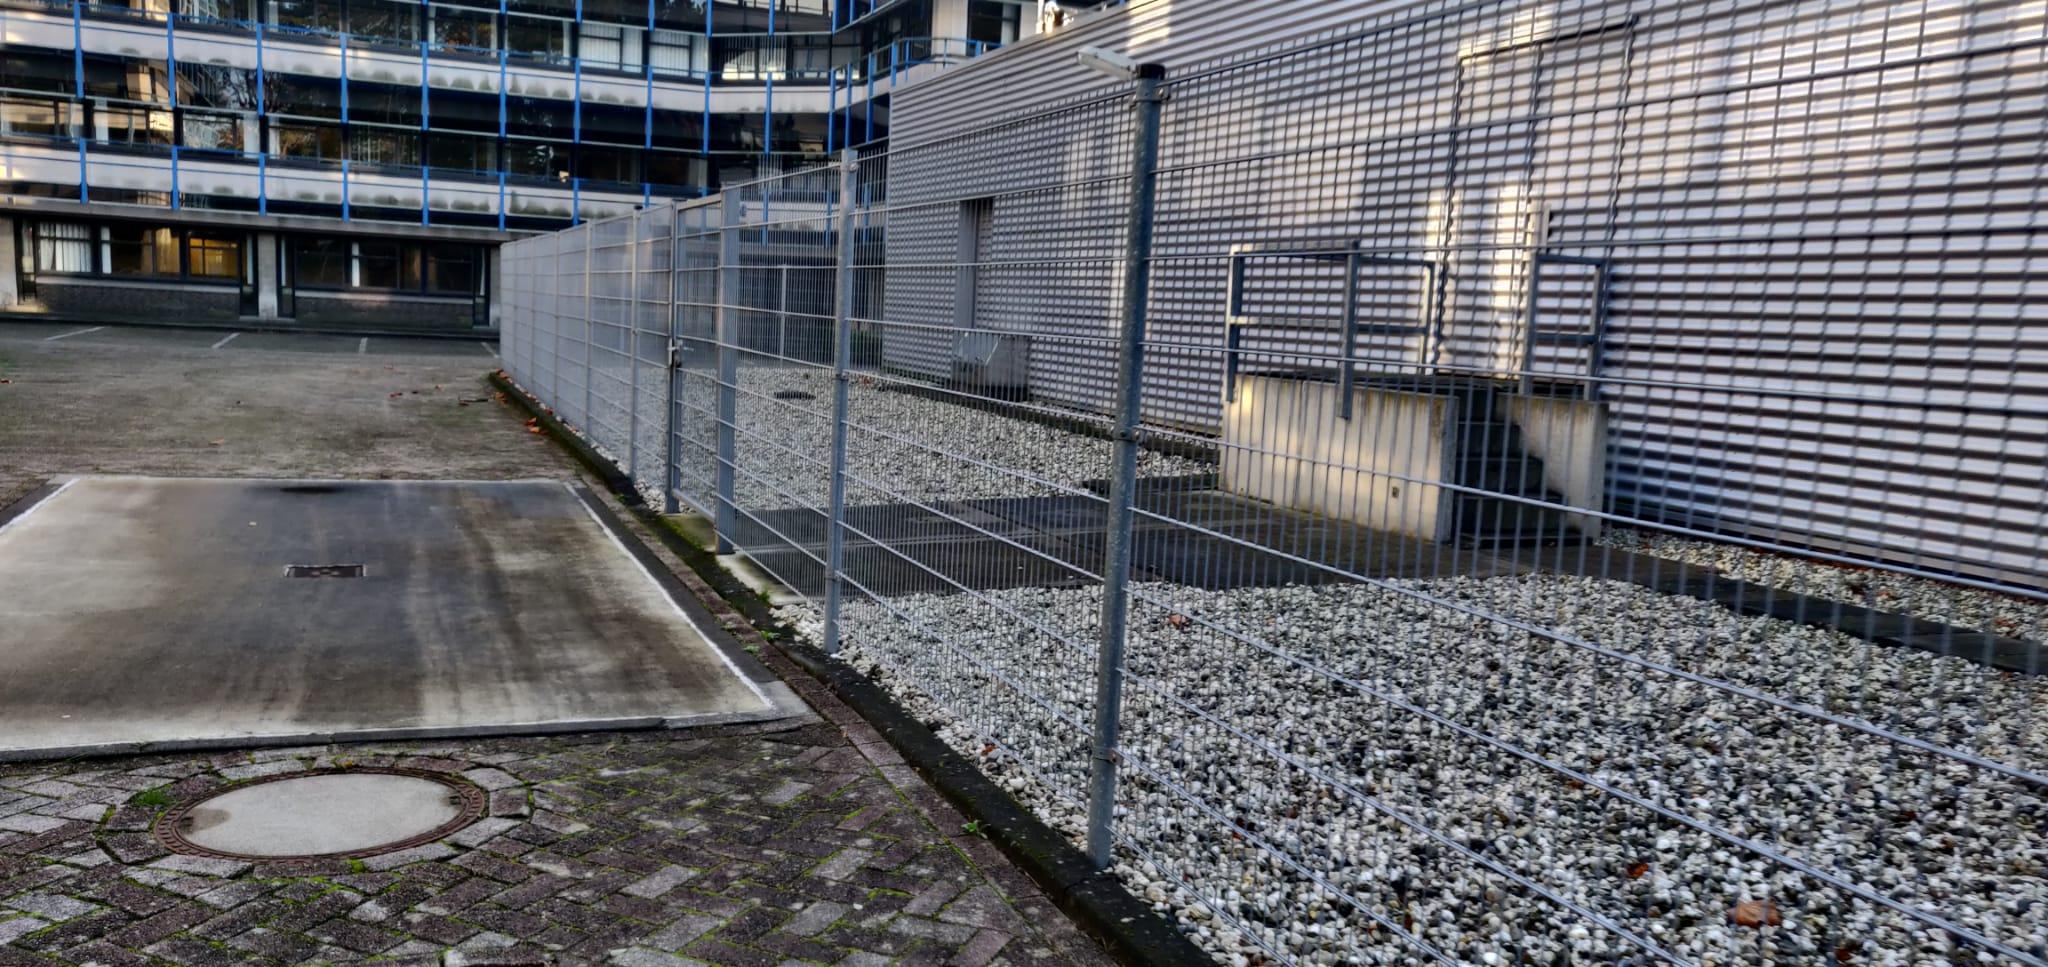obstacle: (0, 0, 1416, 963)
